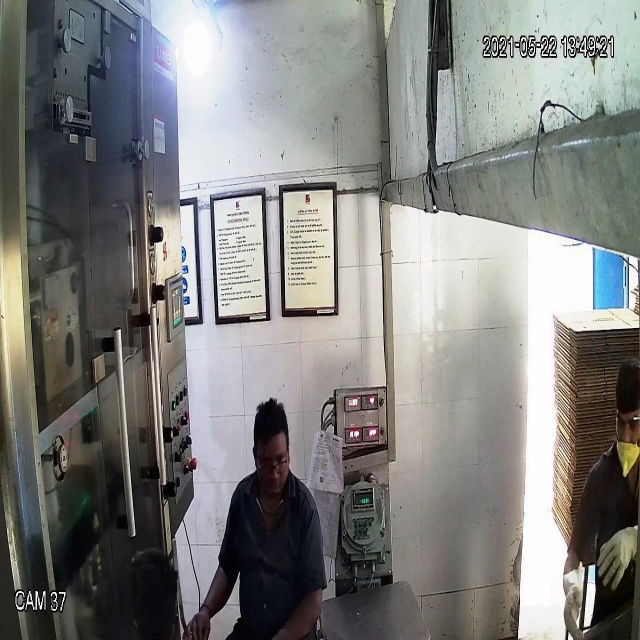Gafas: (249, 445, 293, 478)
